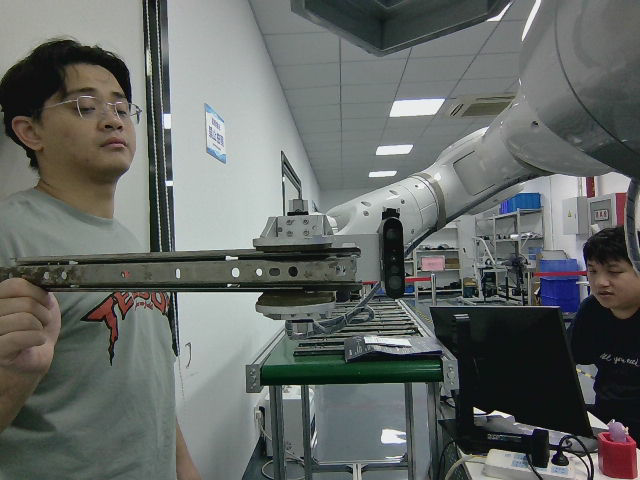right: (43, 245, 363, 297)
